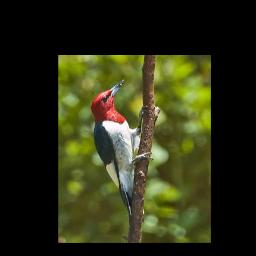Woodpecker: (90, 80, 152, 222)
